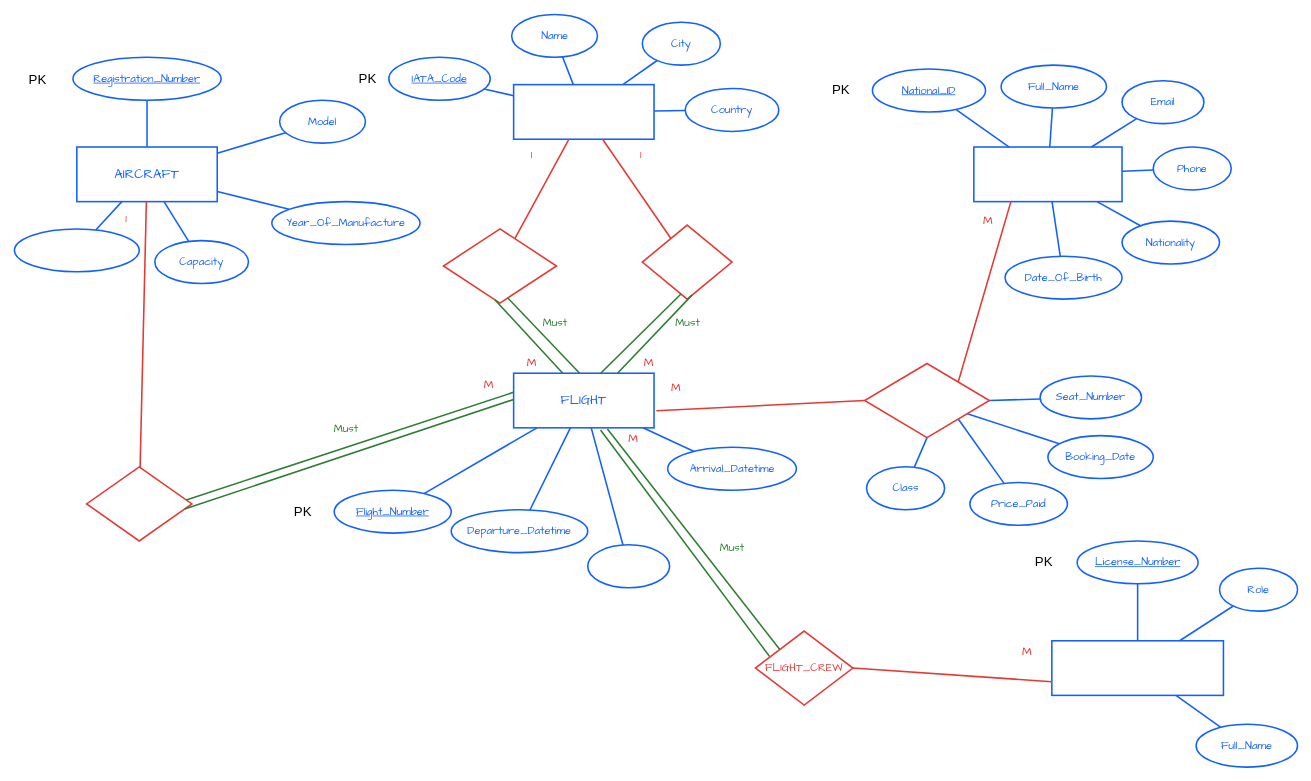
Image size: 1311x781. Some labels were removed from this diagram. The centre of each missing label's shape, as x and y in pixels:
"AIRPORT" goes at pixel 583 111.
"ARRIVES_AT" goes at pixel 686 262.
"ASSIGNED_TO" goes at pixel 138 503.
"BOOKING" goes at pixel 926 400.
"CREW_MEMBER" goes at pixel 1137 668.
"DEPARTS_FROM" goes at pixel 499 265.
"Manufacturer" goes at pixel 76 250.
"PASSENGER" goes at pixel 1047 174.
"Status" goes at pixel 628 566.
